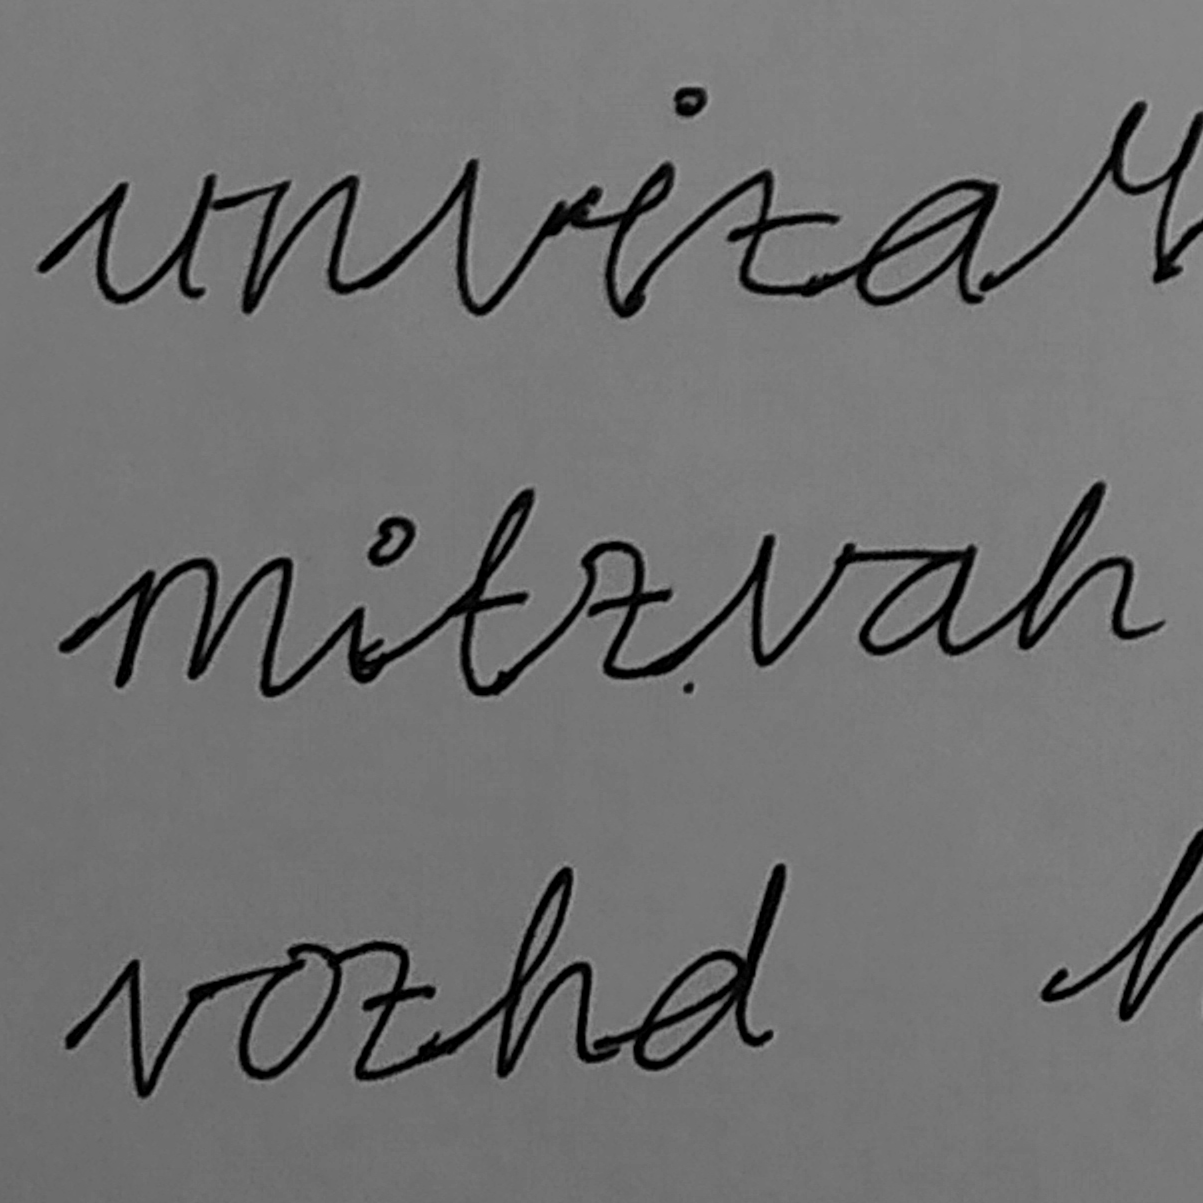a: (854, 539, 986, 660)
h: (1012, 477, 1138, 654)
i: (339, 512, 422, 690)
m: (109, 551, 302, 700)
t: (447, 483, 541, 705)
v: (733, 525, 850, 676)
z: (576, 538, 675, 686)
